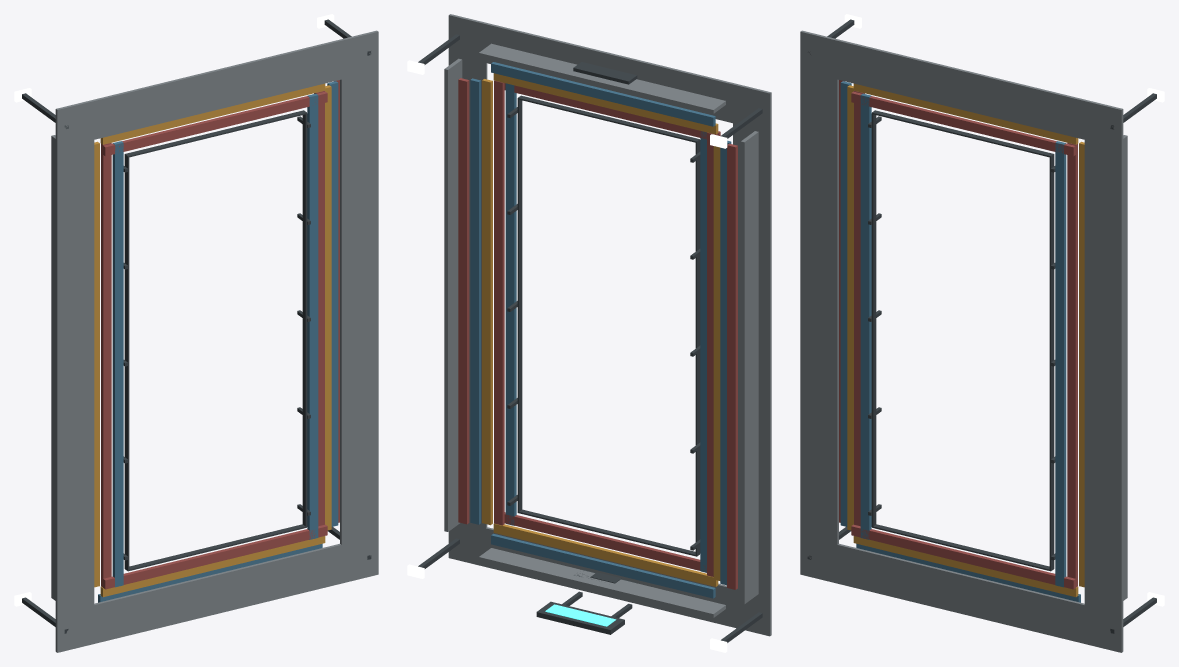
File: stadium.glb
3 renders of one model, left to right at view 1: azimuth 30°, elevation 25°; view 2: azimuth 150°, elevation 25°; view 3: azimuth 330°, elevation 25°, orthographic.
Visible parts, largest first — view 1: West Concourse, East Concourse, South Concourse, North Concourse, West Stand Tier 1, East Stand Tier 1, West Stand Tier 2, East Stand Tier 4, East Stand Tier 3, East Stand Tier 2, West Stand Tier 3, North Stand Tier 1 (+10 smaller); view 2: West Stand Rear Wall, South Concourse, West Concourse, East Stand Rear Wall, North Concourse, East Stand Tier 5, East Stand Tier 1, East Stand Tier 3, West Stand Tier 5, East Stand Tier 4, East Stand Tier 2, North Stand Rear Wall (+19 smaller); view 3: East Concourse, West Concourse, South Concourse, North Concourse, East Stand Tier 1, West Stand Tier 1, East Stand Tier 2, West Stand Tier 4, West Stand Tier 3, West Stand Tier 2, East Stand Tier 3, South Stand Tier 1 (+10 smaller).
Part boxes in pixels (left/top/right/bottom): West Concourse: left=55, top=138, right=94, bottom=613; East Concourse: left=340, top=69, right=378, bottom=546; South Concourse: left=55, top=30, right=378, bottom=148; North Concourse: left=55, top=536, right=378, bottom=652; West Stand Tier 1: left=112, top=141, right=123, bottom=587; East Stand Tier 1: left=307, top=93, right=318, bottom=539; West Stand Tier 2: left=101, top=143, right=111, bottom=587; East Stand Tier 4: left=327, top=81, right=338, bottom=526; East Stand Tier 3: left=325, top=85, right=331, bottom=530; East Stand Tier 2: left=314, top=91, right=324, bottom=526; West Stand Tier 3: left=94, top=141, right=99, bottom=587; North Stand Tier 1: left=103, top=524, right=327, bottom=589; West Stand Rear Wall: left=740, top=131, right=758, bottom=604; South Concourse: left=448, top=14, right=771, bottom=131; West Concourse: left=733, top=122, right=771, bottom=599; East Stand Rear Wall: left=444, top=58, right=462, bottom=531; North Concourse: left=448, top=523, right=771, bottom=636; East Stand Tier 5: left=458, top=78, right=469, bottom=524; East Stand Tier 1: left=505, top=83, right=516, bottom=525; East Stand Tier 3: left=482, top=79, right=492, bottom=525; West Stand Tier 5: left=727, top=143, right=737, bottom=589; East Stand Tier 4: left=470, top=78, right=480, bottom=524; East Stand Tier 2: left=494, top=80, right=504, bottom=525; North Stand Rear Wall: left=479, top=548, right=725, bottom=617; East Concourse: left=1084, top=138, right=1123, bottom=613; West Concourse: left=800, top=70, right=838, bottom=546; South Concourse: left=800, top=30, right=1123, bottom=148; North Concourse: left=800, top=536, right=1123, bottom=652; East Stand Tier 1: left=1055, top=141, right=1066, bottom=587; West Stand Tier 1: left=860, top=93, right=871, bottom=539; East Stand Tier 2: left=1067, top=143, right=1077, bottom=587; West Stand Tier 4: left=840, top=81, right=851, bottom=526; West Stand Tier 3: left=847, top=85, right=853, bottom=530; West Stand Tier 2: left=854, top=91, right=864, bottom=526; East Stand Tier 3: left=1079, top=141, right=1084, bottom=587; South Stand Tier 1: left=851, top=91, right=1075, bottom=156.
Bounding box in the file's own units: 104 × 169 × 25.
